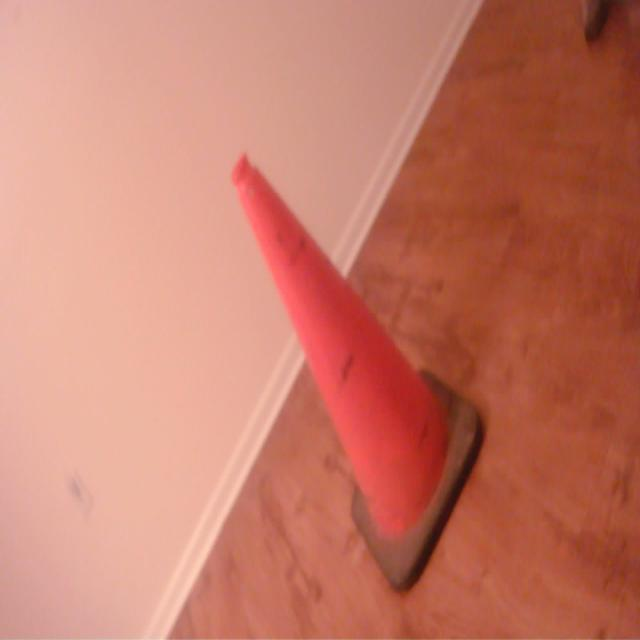traffic cone: (226, 146, 489, 596)
